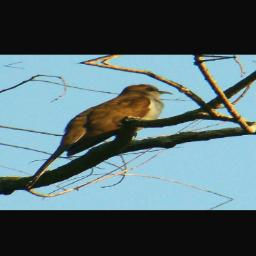Cuckoo: (52, 83, 181, 158)
